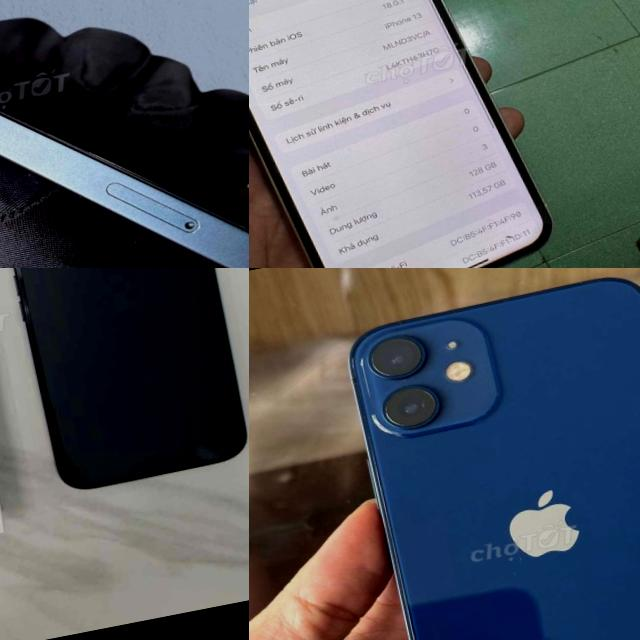gen_12_13: (322, 268, 640, 640), (249, 0, 567, 268)
gen_14: (0, 0, 249, 268)
gen_16: (0, 268, 249, 511)
